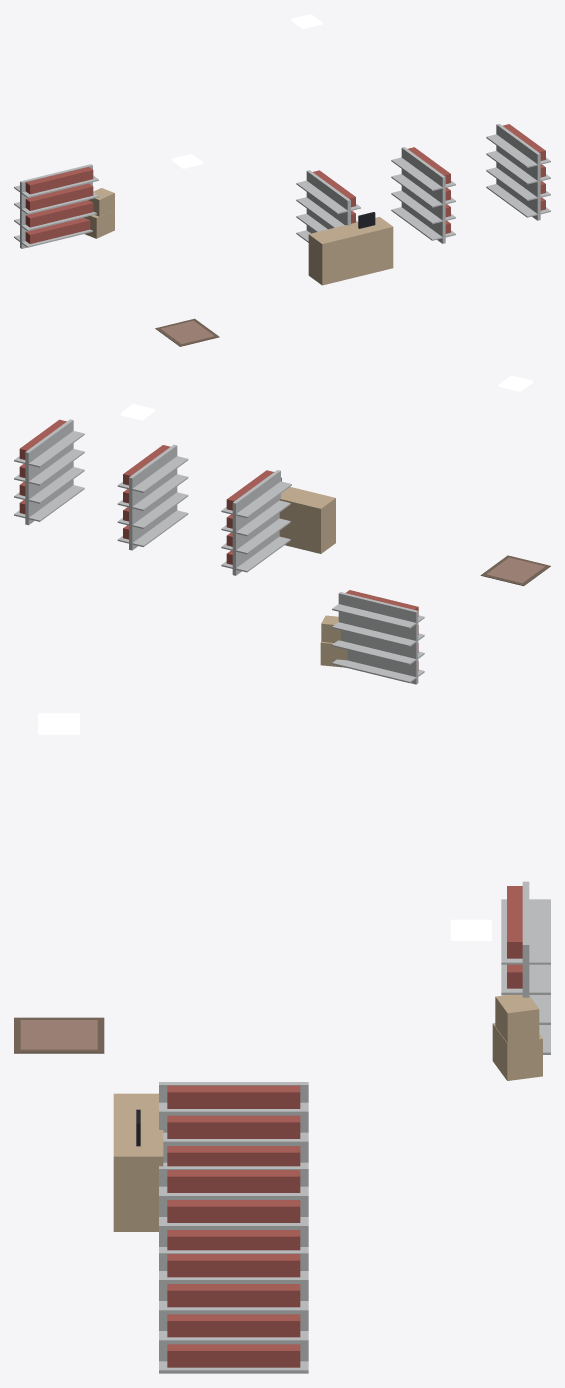
Rendered from fine-s0.glb.
3 renders of one model, top to bottom at view 1: azimuth 30°, elevation 25°; view 2: azimuth 150°, elevation 25°; view 3: azimuth 270°, elevation 25°, orthographic. The views are drawn at different scales.
Visible parts, largest first — view 1: shelving.000, shop-counter.000, shelf.002, shelf.001, shelf.000, cardboard-box.000, soft-s0; view 2: shelving.000, shelf.001, shelf.002, shelf.000, shop-counter.000, soft-s0, cardboard-box.000; view 3: shelf.002, shelf.001, shelf.000, shop-counter.000, shelving.000, cardboard-box.000, soft-s0, ceiling-lamp.000, ceiling-lamp.001.
Boxes of the visible parts, box(x1,y1,x2,y2) form: shelving.000: box(14, 164, 98, 248); shop-counter.000: box(308, 212, 393, 285); shelf.002: box(486, 124, 550, 220); shelf.001: box(391, 147, 455, 243); shelf.000: box(296, 170, 360, 242); cardboard-box.000: box(84, 188, 114, 238); soft-s0: box(155, 318, 219, 346); shelving.000: box(332, 590, 424, 684); shelf.001: box(117, 444, 188, 550); shelf.002: box(14, 419, 84, 525); shelf.000: box(221, 470, 291, 575); shop-counter.000: box(279, 477, 335, 553); soft-s0: box(480, 555, 550, 586); cardboard-box.000: box(320, 615, 347, 667); shelf.002: box(159, 1250, 308, 1373); shelf.001: box(159, 1166, 308, 1250); shelf.000: box(159, 1082, 308, 1166); shop-counter.000: box(113, 1093, 163, 1231); shelving.000: box(501, 881, 550, 1054); cardboard-box.000: box(492, 995, 542, 1080); soft-s0: box(14, 1017, 104, 1053); ceiling-lamp.000: box(38, 713, 79, 734); ceiling-lamp.001: box(450, 919, 491, 940).
Bounding box in the file's own units: 10.85 × 4.17 × 6.47.
